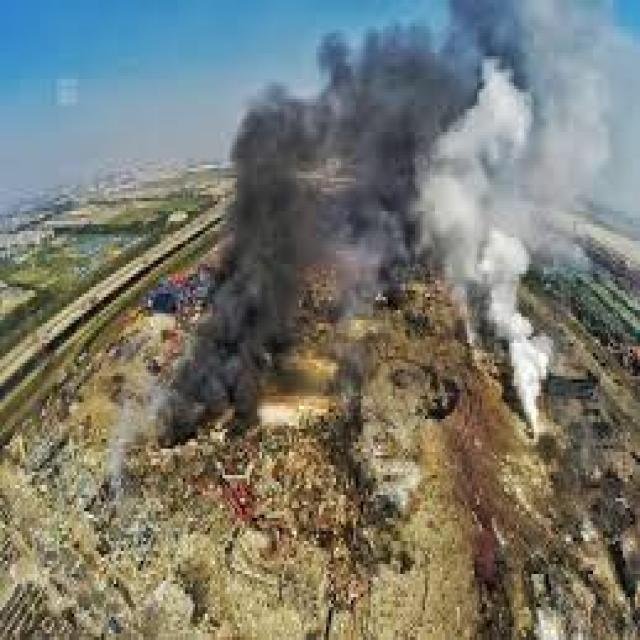explosion: (156, 49, 508, 436)
